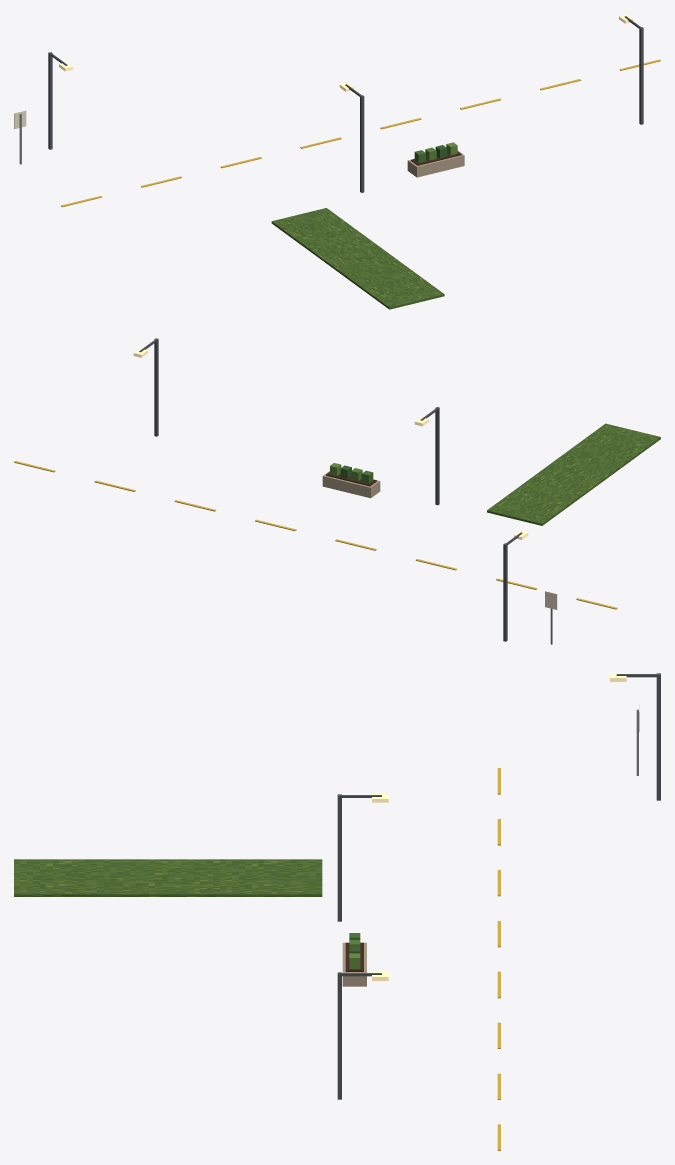
The model's file is structure.glb.
3 views of the same model, one above another, from view 1: azimuth 30°, elevation 25°; view 2: azimuth 150°, elevation 25°; view 3: azimuth 270°, elevation 25° (orthographic). The views are drawn at different scales.
Visible parts, largest first — view 1: Box1, Box13, Box10, Box19, Box22; view 2: Box1, Box13, Box22, Box19, Box10; view 3: Box1.
Boxes of the visible parts, x1,y1,x2,y2 form: Box1: [271, 208, 444, 309]; Box13: [407, 150, 464, 177]; Box10: [360, 95, 364, 192]; Box19: [639, 27, 643, 124]; Box22: [48, 52, 52, 149]; Box1: [487, 423, 660, 525]; Box13: [322, 471, 380, 498]; Box22: [503, 543, 507, 641]; Box19: [154, 338, 158, 436]; Box10: [435, 407, 439, 505]; Box1: [14, 859, 322, 896].
Size of the model in its own units: 30 by 4.72 by 21.49.
Materials: 12 (1 with a texture image).
